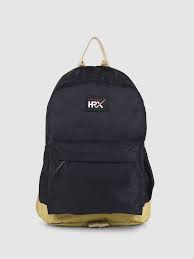backpack: (35, 36, 154, 227)
